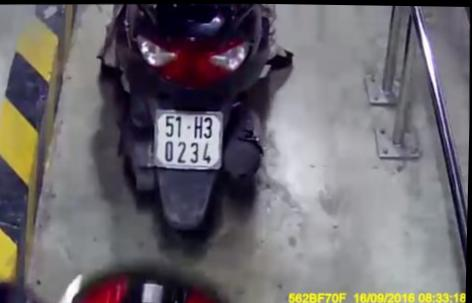LP: (152, 105, 224, 171)
